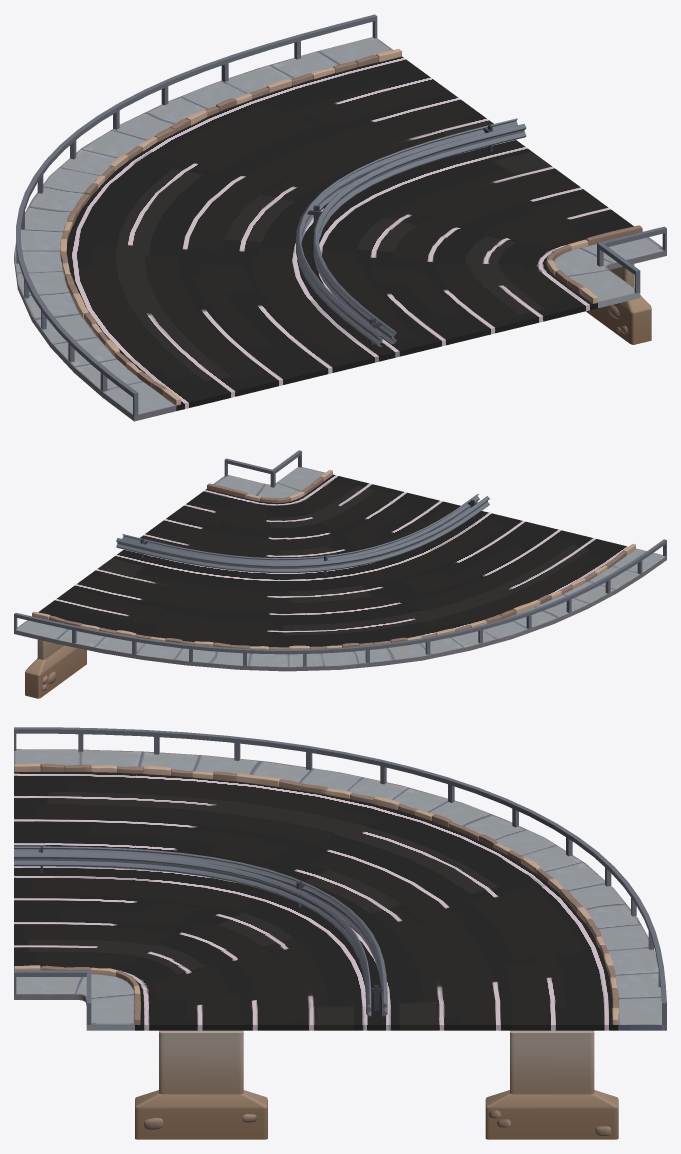
Rendered from CityRoad_8LineBridgeTurn.fbx.
The picture shows the model from 3 angles, top to bottom: view 1: azimuth 30°, elevation 25°; view 2: azimuth 150°, elevation 25°; view 3: azimuth 270°, elevation 25°; orthographic projection. The views are drawn at different scales.
Visible parts, largest first — view 1: CityRoad_8LineBridgeTurn_mesh; view 2: CityRoad_8LineBridgeTurn_mesh; view 3: CityRoad_8LineBridgeTurn_mesh.
Part boxes in pixels (x1,y1,x2,y2): CityRoad_8LineBridgeTurn_mesh: [14, 14, 666, 421]; CityRoad_8LineBridgeTurn_mesh: [14, 450, 666, 698]; CityRoad_8LineBridgeTurn_mesh: [14, 727, 666, 1139].
Bounding box in the file's own units: 2764 × 614 × 2700.
